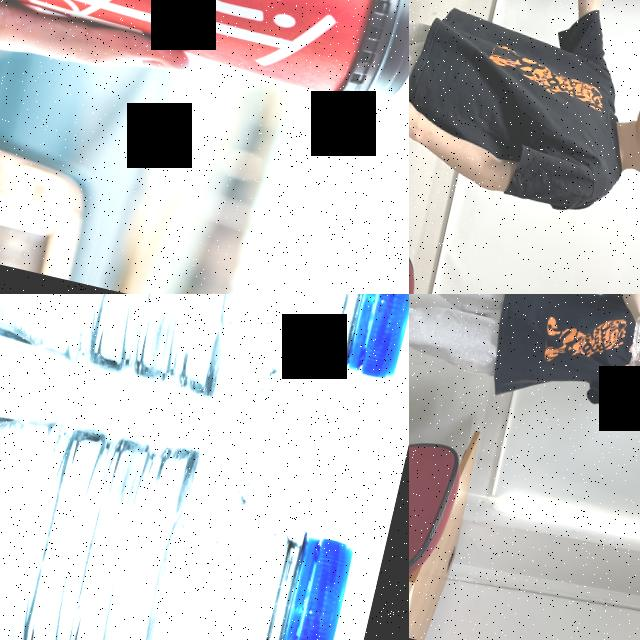bottle: (0, 358, 372, 640), (0, 294, 409, 444), (613, 312, 640, 421)
cup: (0, 0, 409, 124)
